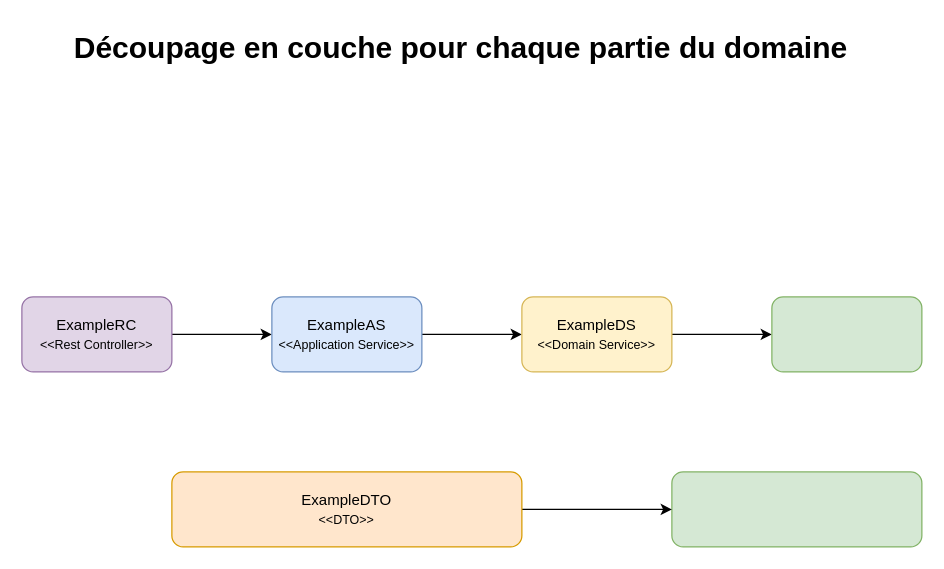
Some shapes in this 944 by 569 pixel diagram are drawn without their labels. Here are the shapes that lost their labels. From the top down, the box of each, then its label:
(771, 296, 922, 372): ExampleRepository <<Repository>>
(671, 471, 922, 547): ExampleEntity <<Entity>>
